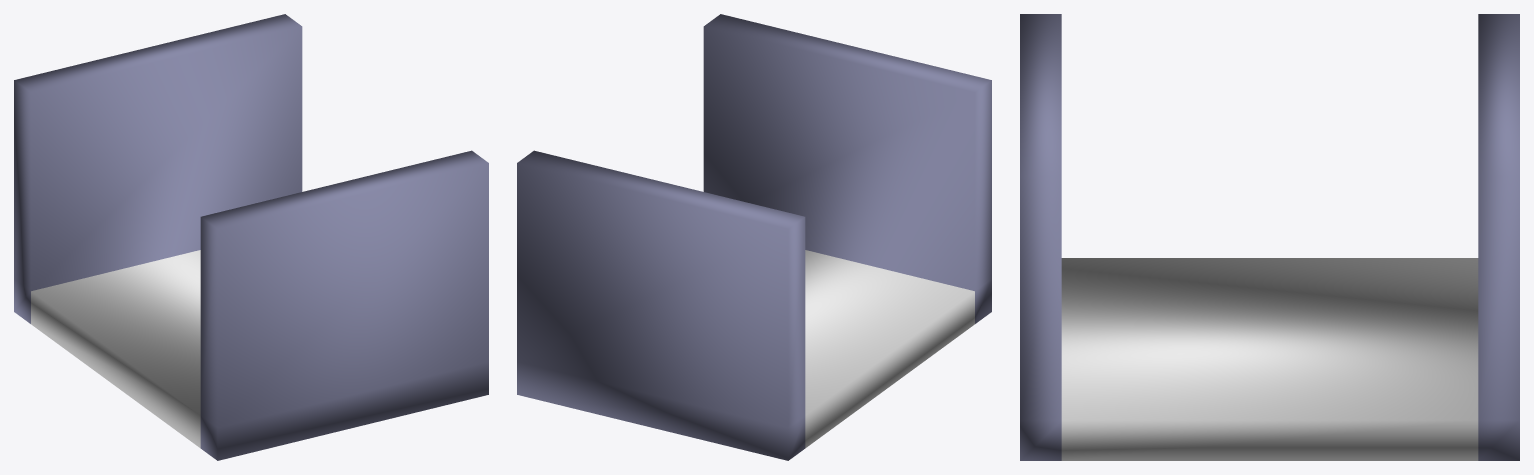
The model's file is Bridge.fbx.
The picture shows the model from 3 angles, left to right: view 1: azimuth 30°, elevation 25°; view 2: azimuth 150°, elevation 25°; view 3: azimuth 270°, elevation 25°; orthographic projection. The views are drawn at different scales.
Visible parts, largest first — view 1: model-bridge; view 2: model-bridge; view 3: model-bridge.
Part boxes in pixels (<box>): model-bridge: <box>14,14,488,460</box>; model-bridge: <box>517,14,991,460</box>; model-bridge: <box>1020,14,1519,460</box>.
Bounding box in the file's own units: 0.6 × 0.49 × 0.78.
